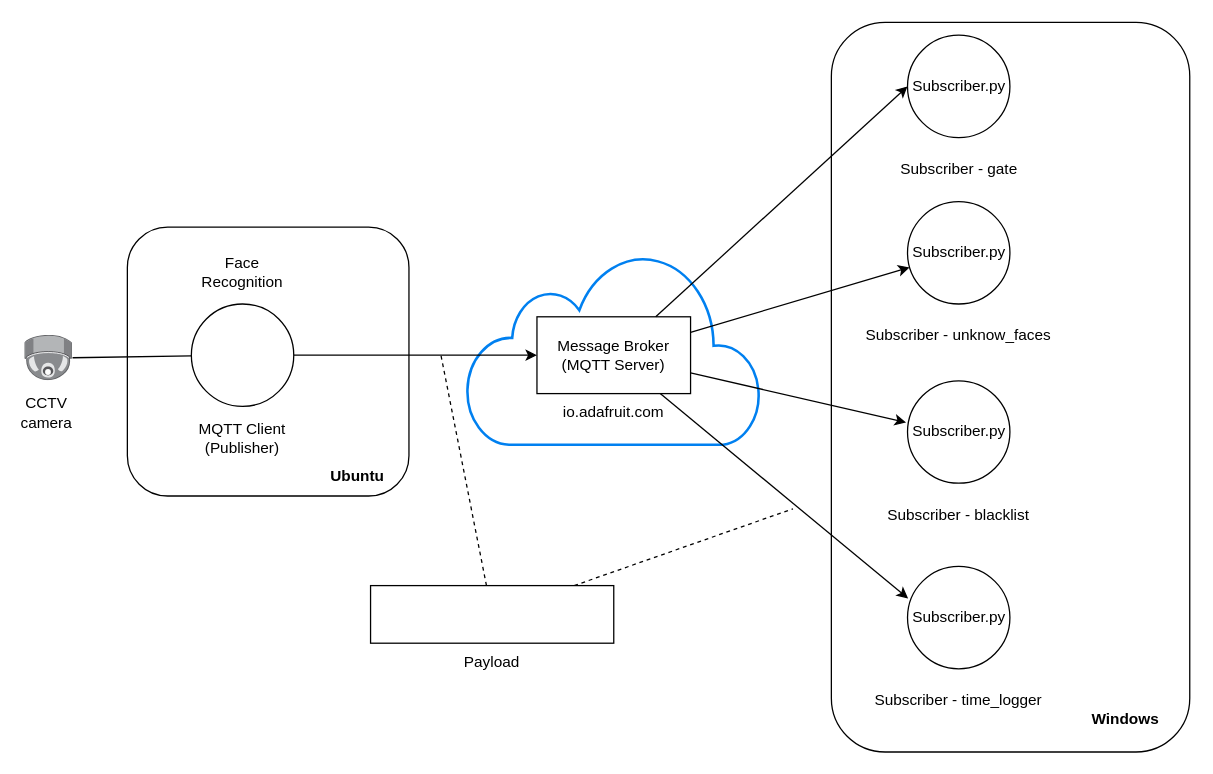
This 1213x774 diagram has some shape labels left out. Each missing label, with the centre of its shape:
"Face_detected_name#DateTime" goes at point 491,613.
"Publisher.py" goes at point 242,354.
